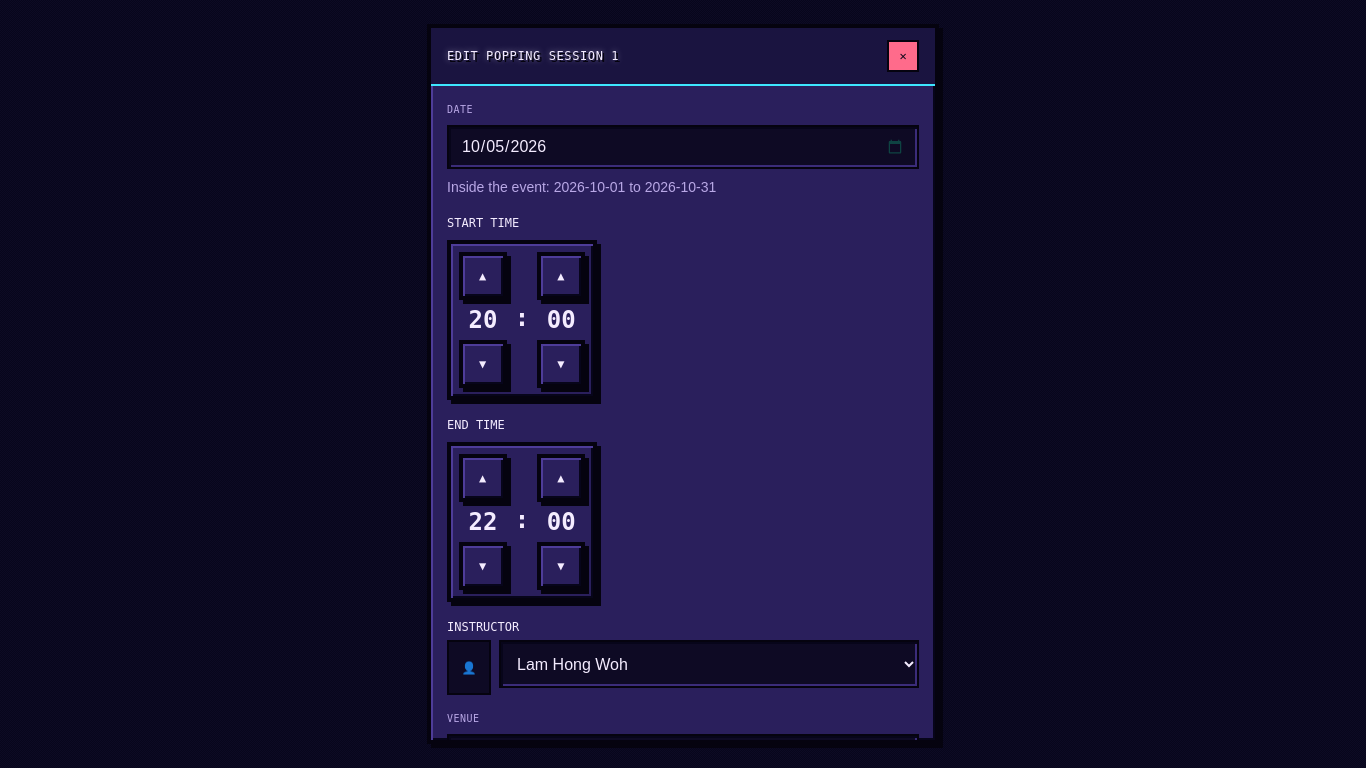
SessionEditor instructor drop-down › shows in-app alert when user explicitly changes date outside event bounds
This screenshot has width=1366, height=768.
Type "2026-11-15" into the date field labelled "Date". click: [683, 147]
box: [447,125,919,169]
(page scrolled)
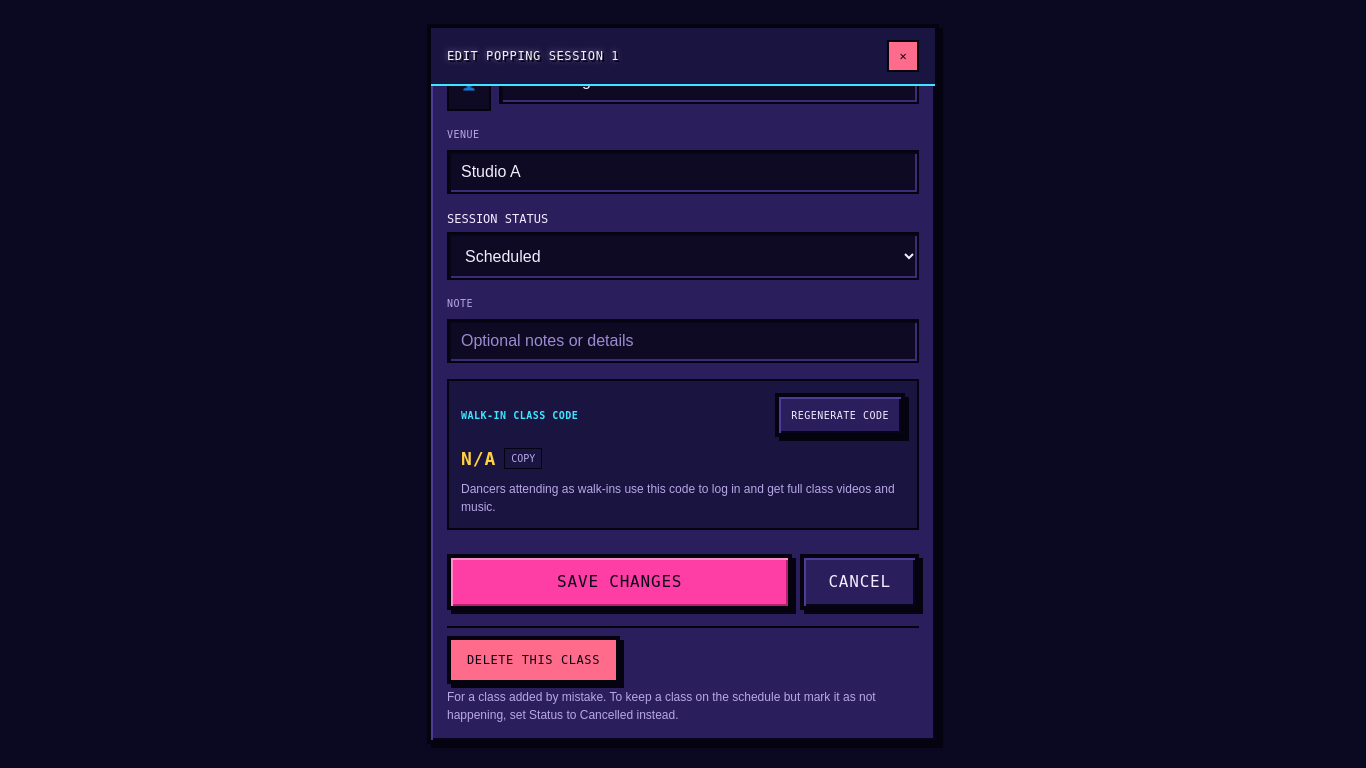
Click the button "SAVE CHANGES". click: [620, 582]
box: [447,554,792,610]
(page scrolled)
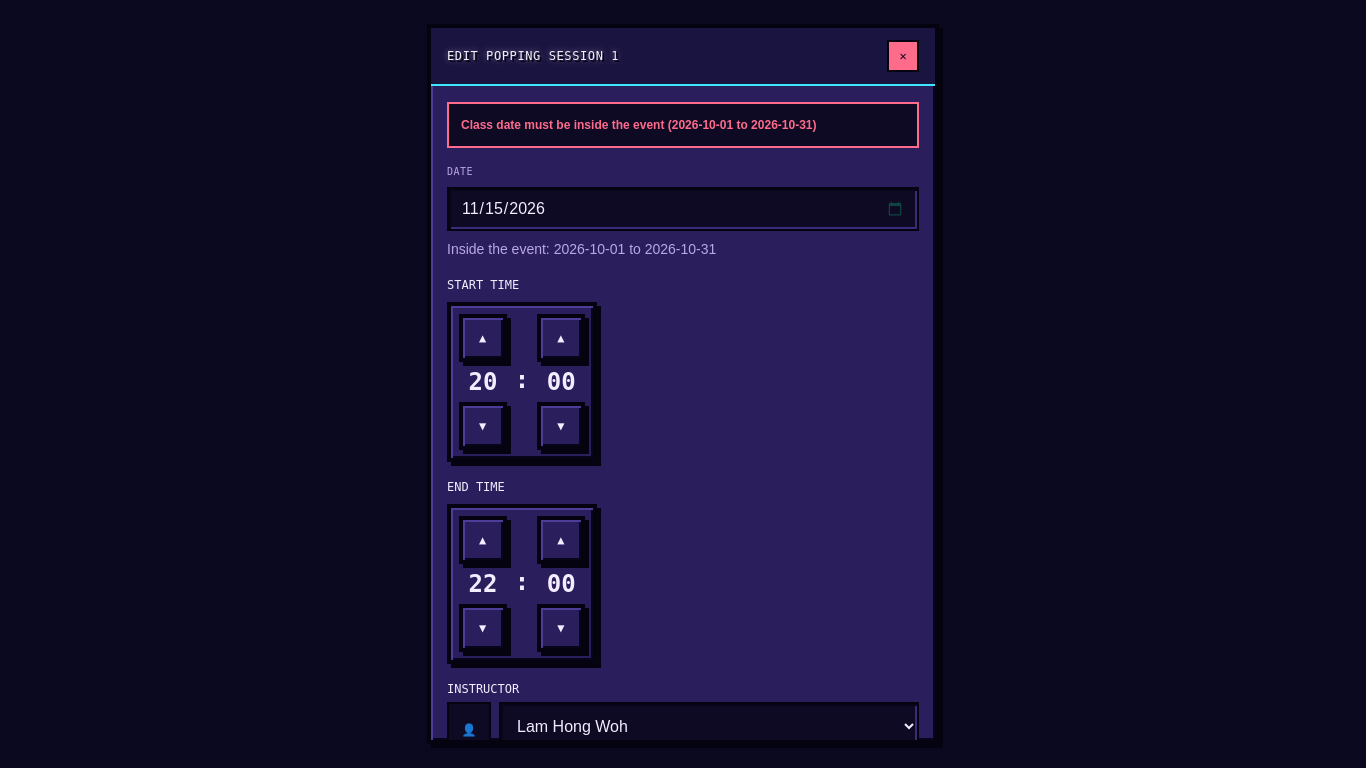
Now the message reads "Class date must be inside the event (2026-10-01 to 2026-10-31)", box [461,118,816,132]
